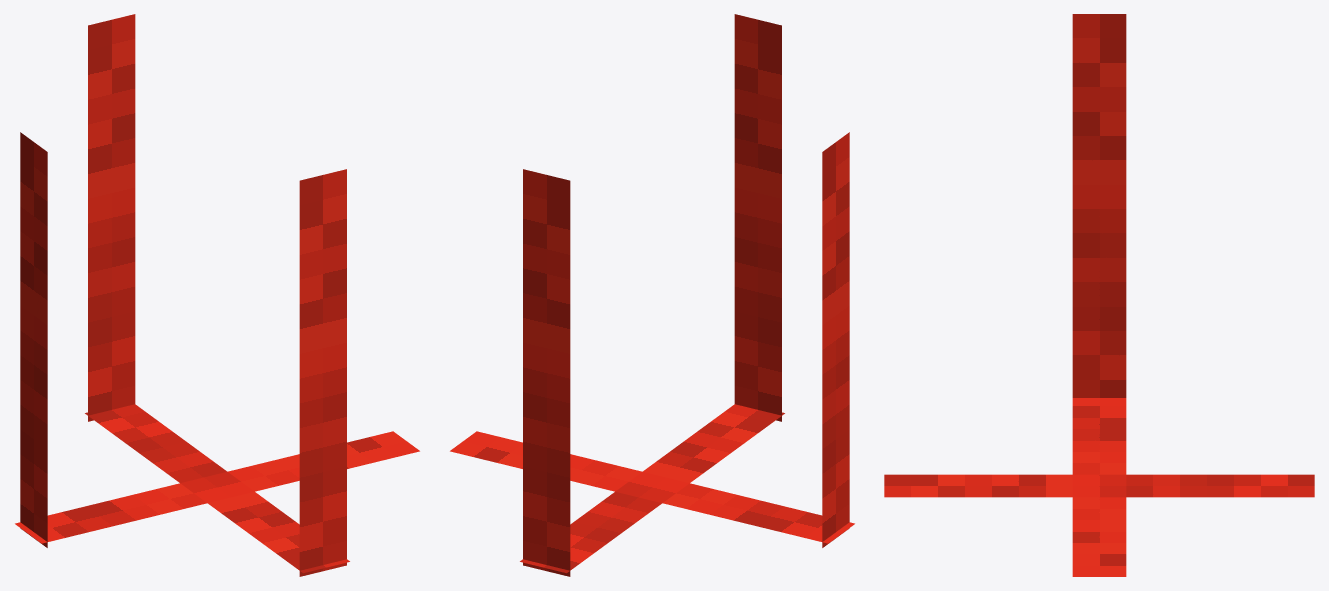
Rendered from dust_on_1222.gltf.
3 views of the same model, side by side, from view 1: azimuth 30°, elevation 25°; view 2: azimuth 150°, elevation 25°; view 3: azimuth 270°, elevation 25° (orthographic).
Parts seen in each view (by area): view 1: dust_on_1222; view 2: dust_on_1222; view 3: dust_on_1222.
Part boxes in pixels (left/top/right/bottom): dust_on_1222: left=15, top=14, right=419, bottom=576; dust_on_1222: left=450, top=14, right=854, bottom=576; dust_on_1222: left=884, top=14, right=1314, bottom=576.
Bounding box in the file's own units: 1 × 1 × 1.
1 material, 1 textured.
